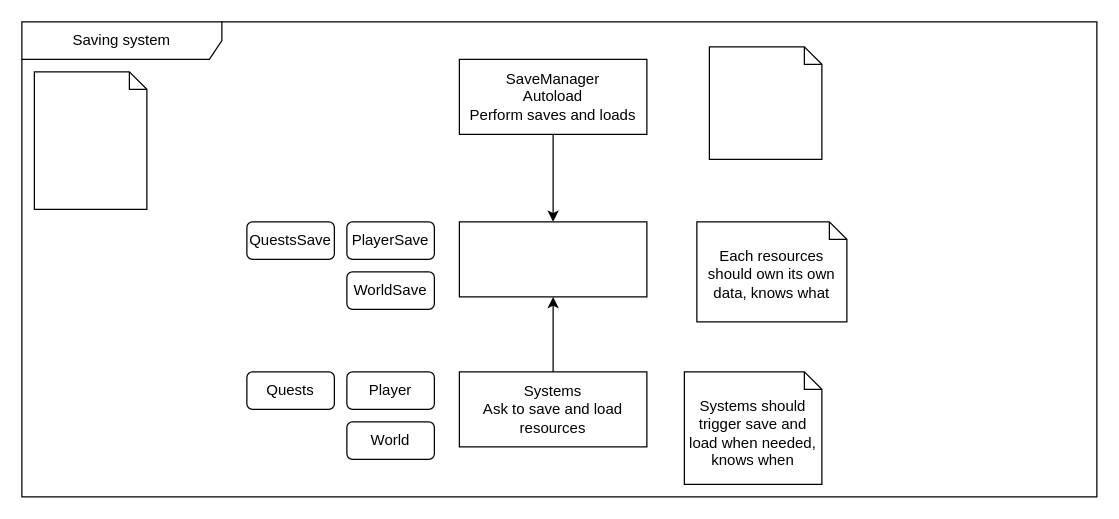
This 1119x519 diagram has some shape labels left out. The shapes that lost their labels are listed below. From the top down, each one's box as (x1, y1, x2, y2) in pixels, then its label:
(708, 46, 822, 159): Manager shouldn't know what to save, only how
(33, 71, 147, 209): Loosely coupled, high coesion, SRP Resource and event driven
(458, 221, 647, 297): Resources What to save Extends SaveData
